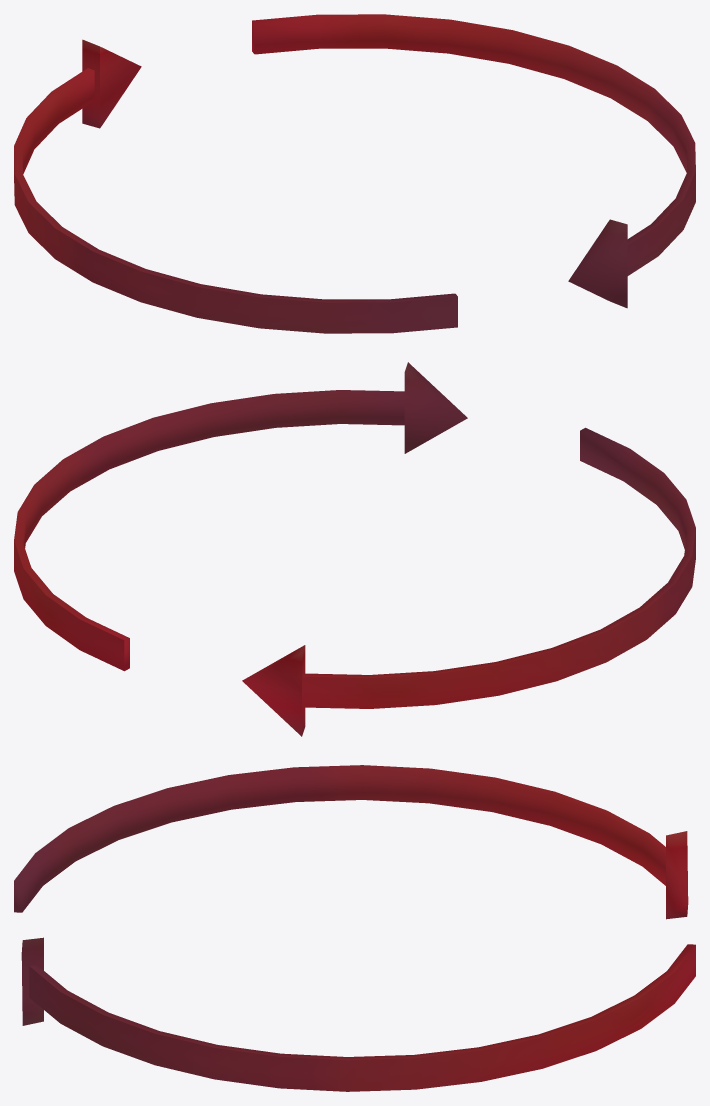
File: 9207237d-8a6a-4077-8b93-19e238f8cbbb.glb
The picture shows the model from 3 angles, top to bottom: view 1: azimuth 30°, elevation 25°; view 2: azimuth 150°, elevation 25°; view 3: azimuth 270°, elevation 25°; orthographic projection. The views are drawn at different scales.
Parts seen in each view (by area): view 1: GizmoRotateZ; view 2: GizmoRotateZ; view 3: GizmoRotateZ.
Boxes of the visible parts, box(x1,y1,x2,y2) form: GizmoRotateZ: box(14, 14, 695, 333); GizmoRotateZ: box(14, 362, 695, 736); GizmoRotateZ: box(14, 765, 695, 1091).
Bounding box in the file's own units: 2 × 0.2712 × 1.95.
Materials: 1 (1 with a texture image).
